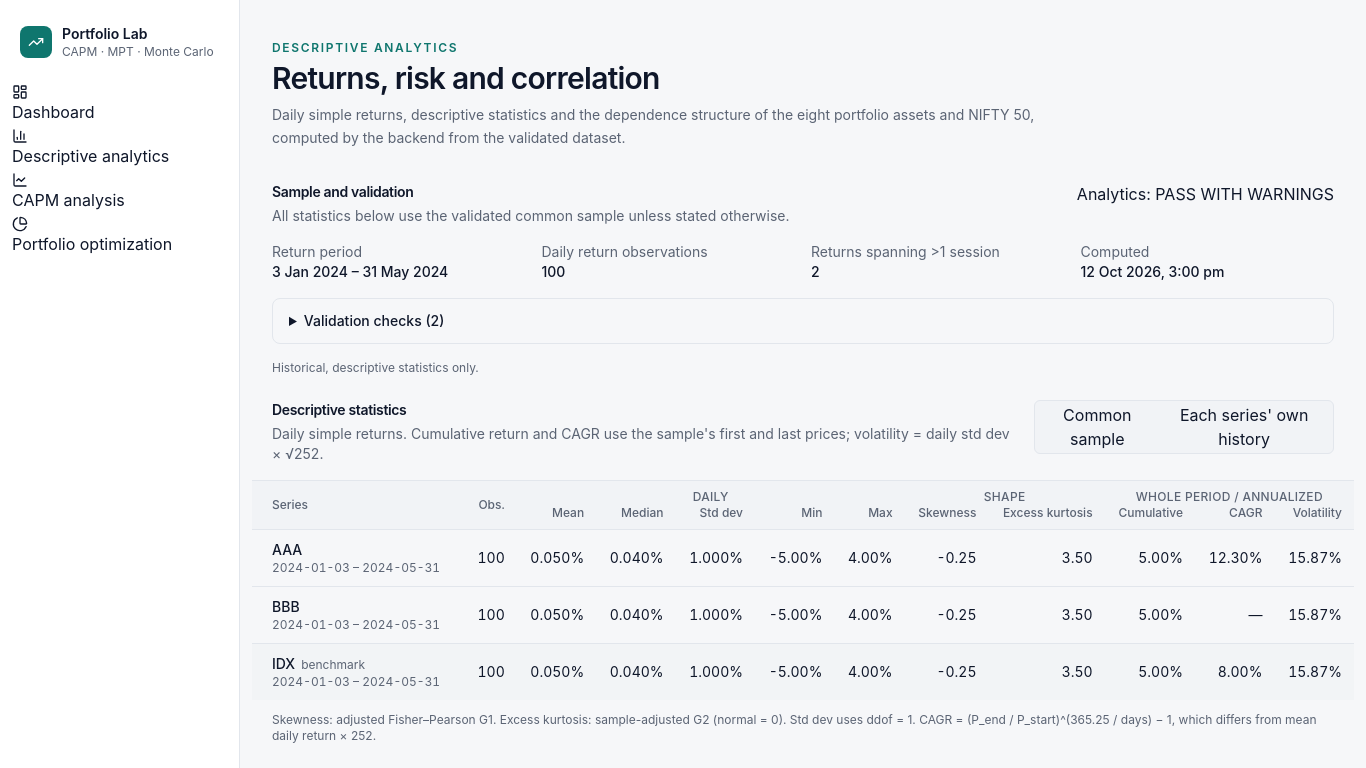
it: descriptive analytics page › switches the statistics sample
The width and height of the screenshot is (1366, 768).
Click the button "Each series' own history": {"x": 1244, "y": 426} [1157,402,1331,450]
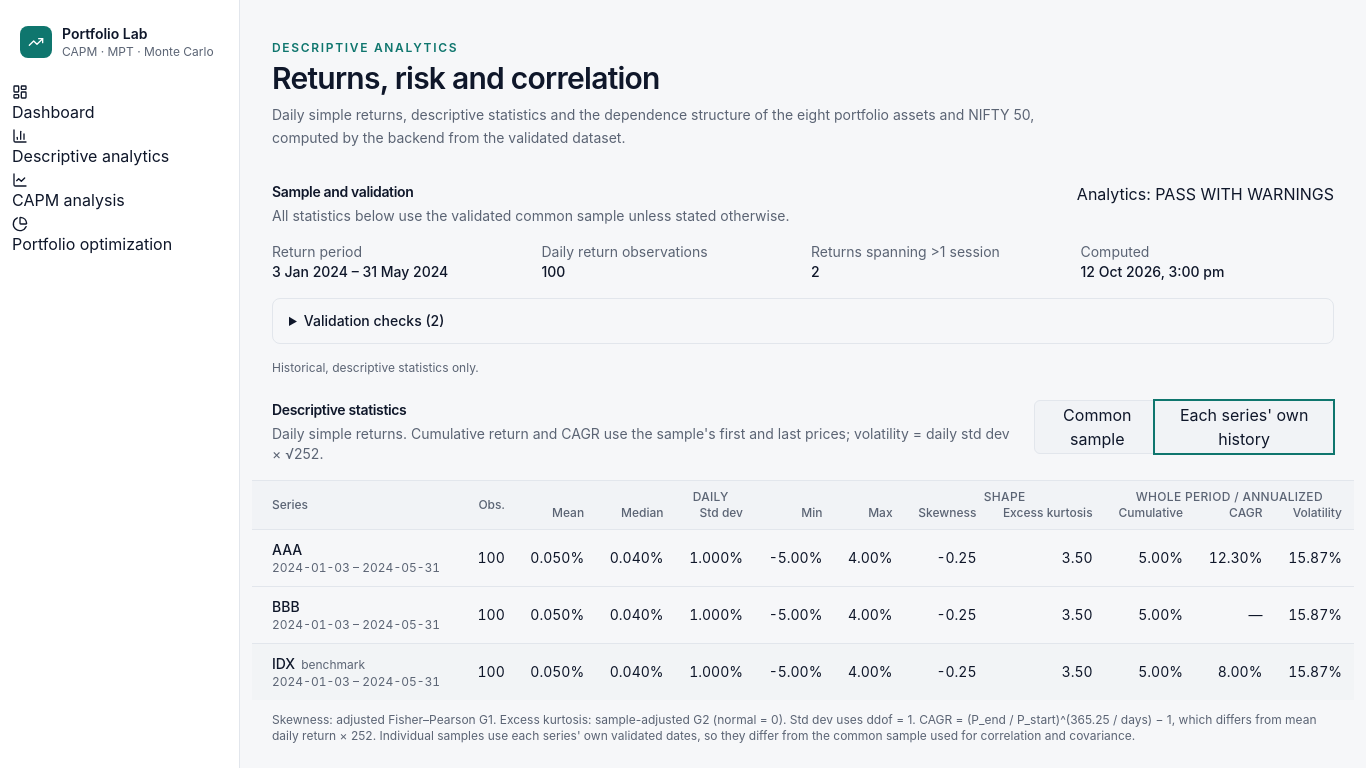
Result: the text "Individual samples use each series' own validated dates" is shown at [376,728,1135,742]
